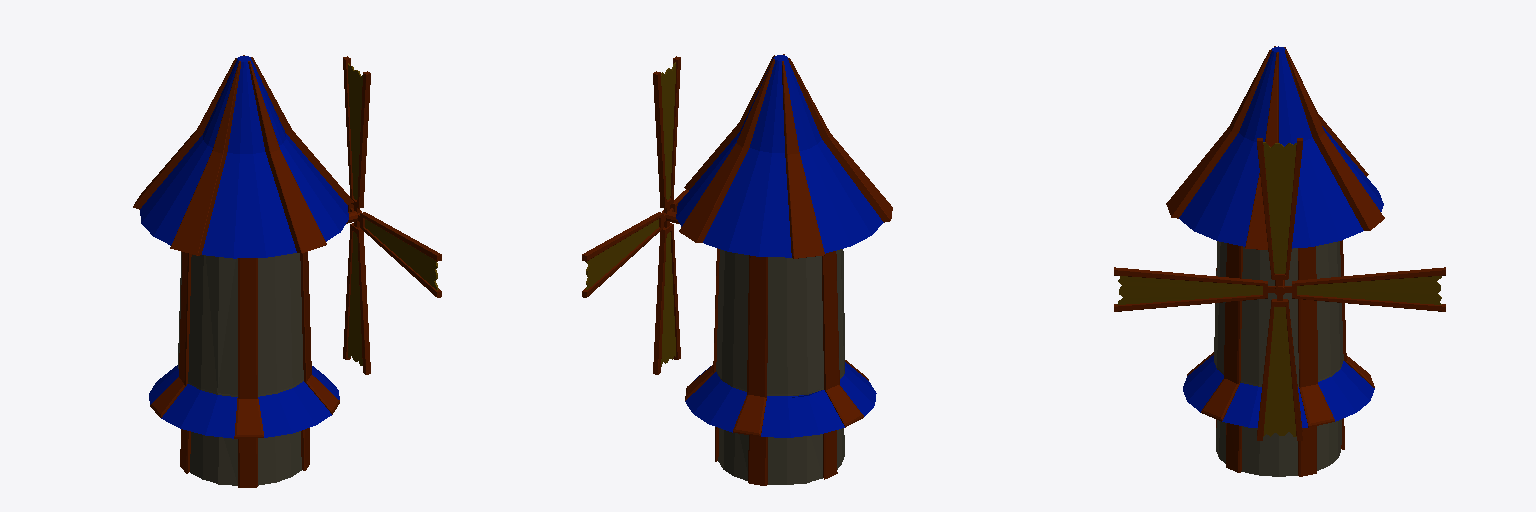
Rendered from Wildmill_BlueTeam.obj.
The picture shows the model from 3 angles: view 1: azimuth 30°, elevation 25°; view 2: azimuth 150°, elevation 25°; view 3: azimuth 270°, elevation 25°; orthographic projection.
Parts seen in each view (by area): view 1: Wildmill_BlueTeam_Cylinder, WingsWildmill_BlueTeam_Cube.005; view 2: Wildmill_BlueTeam_Cylinder, WingsWildmill_BlueTeam_Cube.005; view 3: Wildmill_BlueTeam_Cylinder, WingsWildmill_BlueTeam_Cube.005.
Boxes of the visible parts, box(x1,y1,x2,y2) form: Wildmill_BlueTeam_Cylinder: box(133, 55, 361, 487); WingsWildmill_BlueTeam_Cube.005: box(343, 56, 441, 374); Wildmill_BlueTeam_Cylinder: box(662, 54, 892, 485); WingsWildmill_BlueTeam_Cube.005: box(582, 56, 688, 374); Wildmill_BlueTeam_Cylinder: box(1166, 46, 1384, 476); WingsWildmill_BlueTeam_Cube.005: box(1114, 138, 1445, 440).
Size of the model in its own units: 20.98 by 38.5 by 28.82.